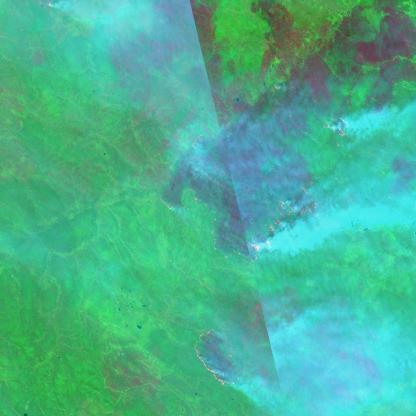fire: (244, 177, 320, 266), (194, 327, 240, 387), (322, 110, 354, 140)
